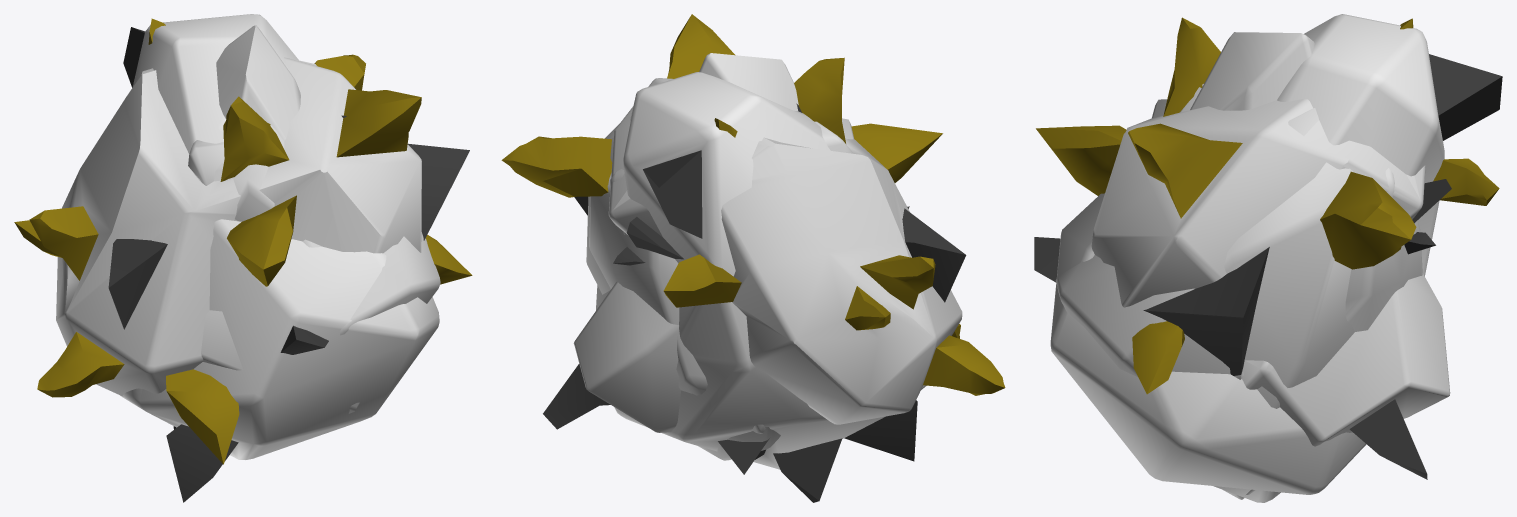
Rendered from S_asteroids.fbx.
3 views of the same model, side by side, from view 1: azimuth 30°, elevation 25°; view 2: azimuth 150°, elevation 25°; view 3: azimuth 270°, elevation 25° (orthographic). The views are drawn at different scales.
Parts seen in each view (by area): view 1: astroid coppar 1, astroids iron 4, astroids iron 3, astroids 2, astroids iron 2; view 2: astroid coppar 1, astroids iron 4, astroids iron 3, astroids 3, astroids 2, astroids iron 2; view 3: astroids iron 4, astroid coppar 1, astroids iron 3, astroids 2, astroids 3, astroids iron 1.
Boxes of the visible parts, x1=… form: astroid coppar 1: x1=14, y1=18, x2=472, y2=464; astroids iron 4: x1=108, y1=14, x2=469, y2=502; astroids iron 3: x1=173, y1=25, x2=359, y2=429; astroids 2: x1=233, y1=58, x2=440, y2=335; astroids iron 2: x1=188, y1=140, x2=224, y2=185; astroid coppar 1: x1=501, y1=14, x2=1005, y2=424; astroids iron 4: x1=574, y1=72, x2=966, y2=474; astroids iron 3: x1=543, y1=53, x2=909, y2=502; astroids 3: x1=589, y1=173, x2=780, y2=460; astroids 2: x1=586, y1=118, x2=853, y2=294; astroids iron 2: x1=610, y1=103, x2=853, y2=433; astroids iron 4: x1=1050, y1=14, x2=1502, y2=494; astroid coppar 1: x1=1036, y1=17, x2=1499, y2=394; astroids iron 3: x1=1034, y1=32, x2=1451, y2=499; astroids 2: x1=1055, y1=99, x2=1354, y2=408; astroids 3: x1=1213, y1=220, x2=1422, y2=502; astroids iron 1: x1=1180, y1=84, x2=1435, y2=254.
Bounding box in the file's own units: 314 × 286 × 250.
